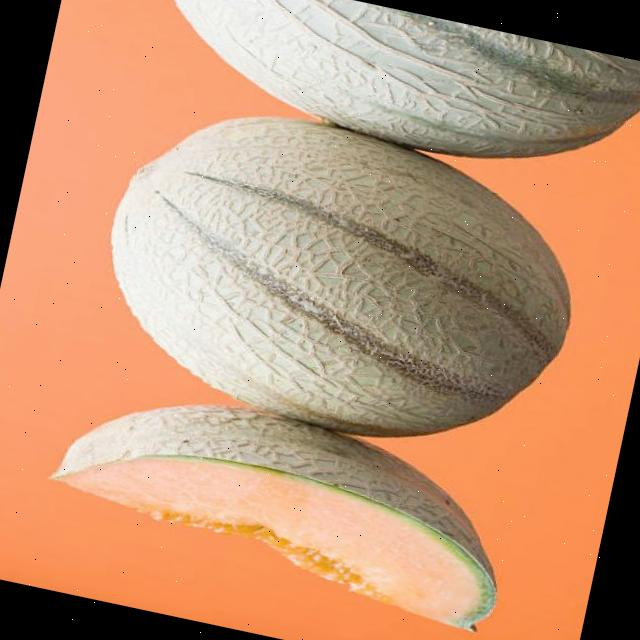Hami Melon: (80, 84, 600, 470), (45, 372, 521, 628), (128, 0, 640, 195)
